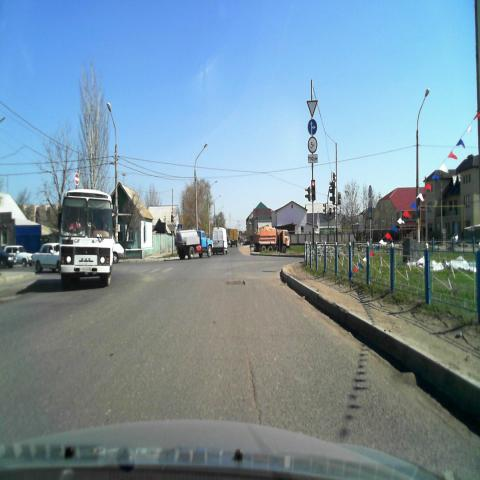3_1: (73, 174, 81, 186)
3_11: (307, 137, 318, 153)
